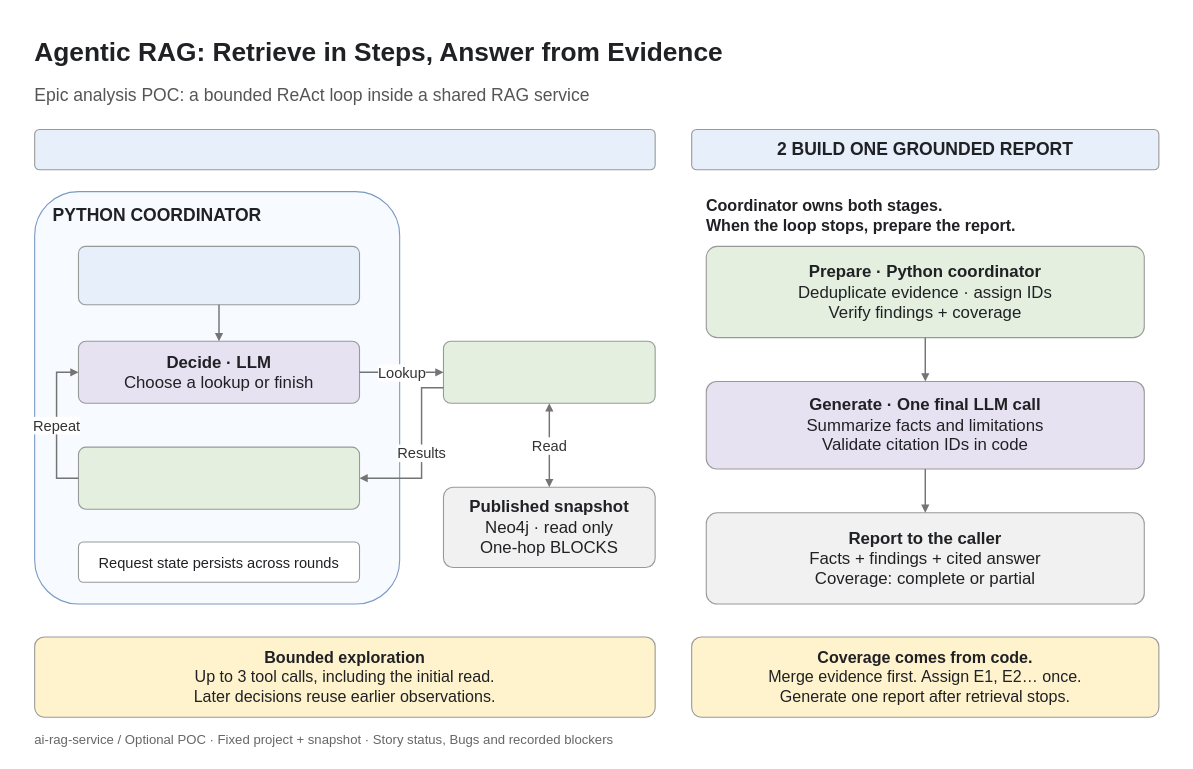
Image size: 1193x769. Some labels were removed from this diagram. The shapes that lost their labels are listed below. From the top down, each one's centre as x and y in pixels, then its label:
the point at 344,149: 1 GATHER EVIDENCE — The coordinator drives the loop
the point at 219,275: Initial read Epic + Stories + direct Bugs
the point at 549,372: Act · Local tools Existing GraphService
the point at 219,477: Observe · Python Keep facts + coverage so far
